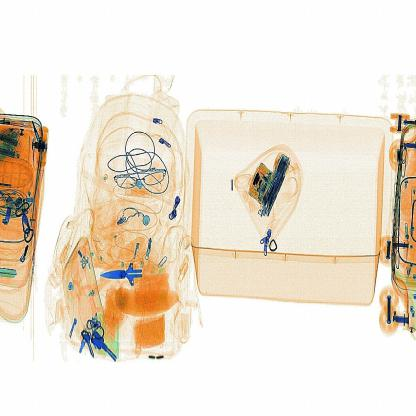gun: (97, 244, 164, 298)
